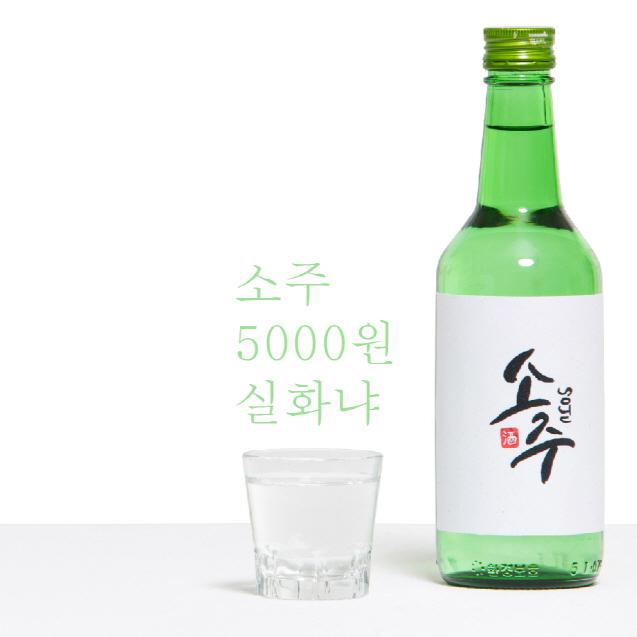soju: (432, 21, 609, 593)
